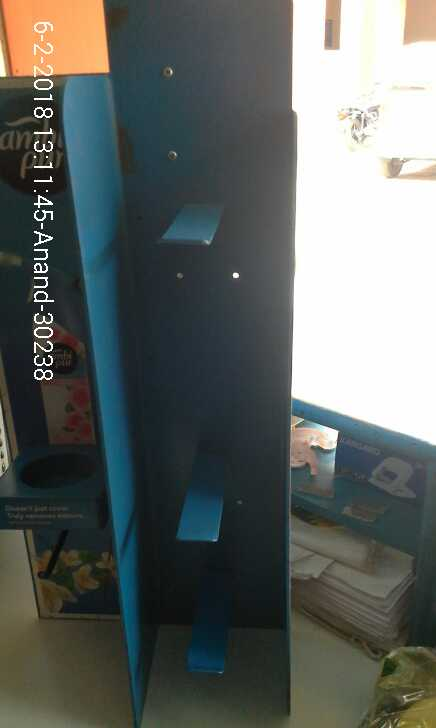reject: (187, 248, 338, 318)
